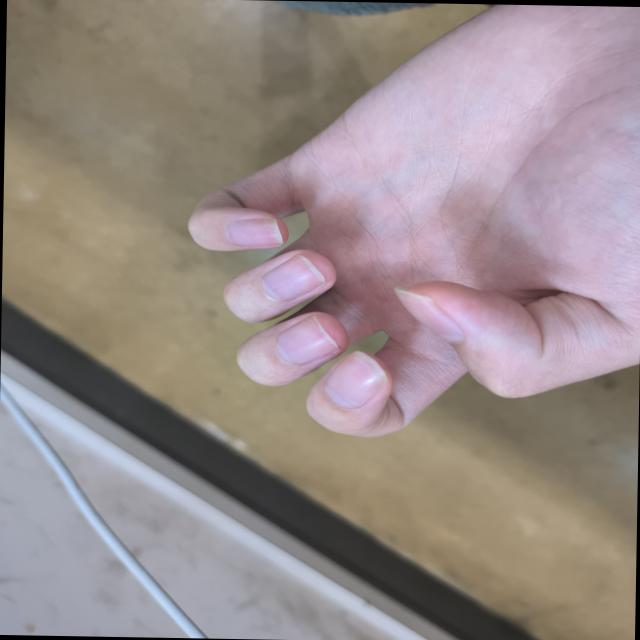Nail: (392, 287, 462, 342), (324, 349, 385, 407), (275, 315, 336, 362), (260, 253, 323, 298), (224, 217, 280, 244)
